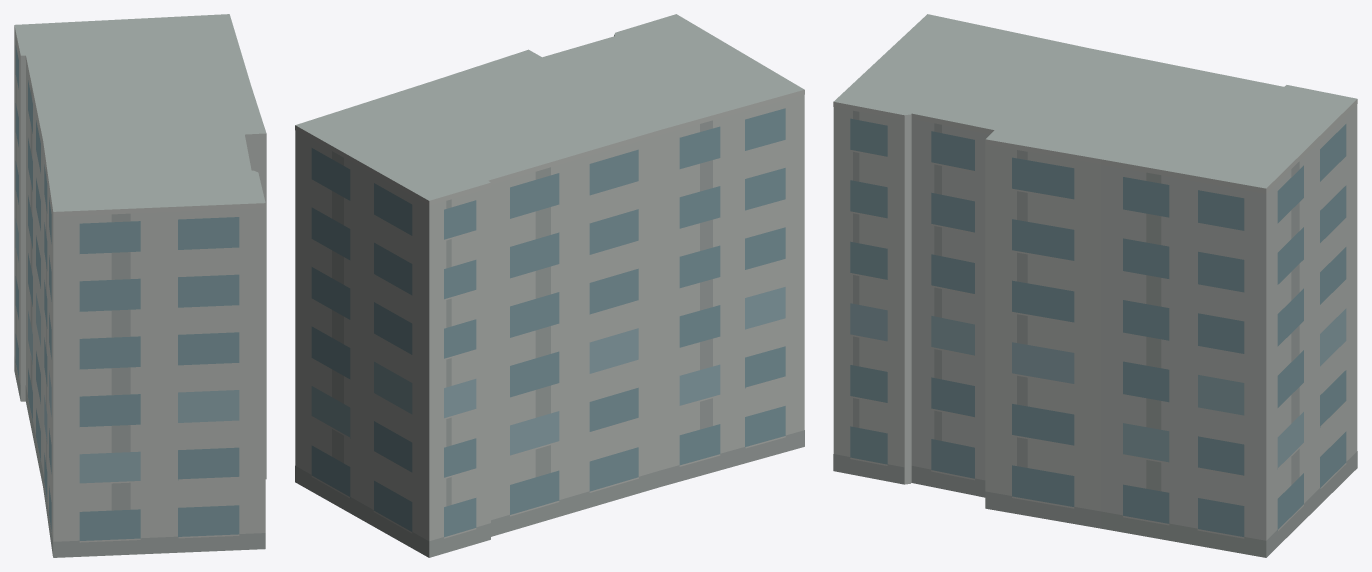
Rendered from survey-upis-32889623.glb.
3 renders of one model, left to right at view 1: azimuth 30°, elevation 25°; view 2: azimuth 150°, elevation 25°; view 3: azimuth 270°, elevation 25°, orthographic. The views are drawn at different scales.
Parts seen in each view (by area): view 1: survey-upis-32889623.tmp; view 2: survey-upis-32889623.tmp; view 3: survey-upis-32889623.tmp.
Boxes of the visible parts, x1,y1,x2,y2 form: survey-upis-32889623.tmp: (14,14,266,557); survey-upis-32889623.tmp: (295,14,804,557); survey-upis-32889623.tmp: (833,14,1357,557).
Size of the model in its own units: 17.44 by 17.2 by 22.13.
